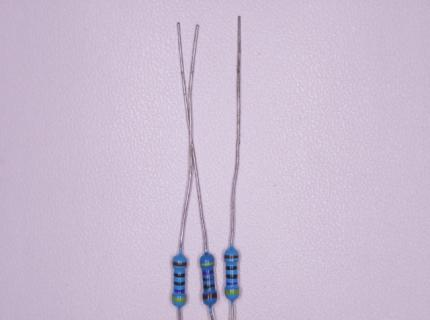Black band: (203, 284, 215, 290), (226, 273, 237, 279), (226, 266, 238, 271), (173, 281, 185, 286), (202, 277, 214, 282), (174, 273, 185, 278)
Brown band: (201, 292, 217, 300), (173, 261, 187, 266), (225, 255, 239, 259)
Violet band: (202, 269, 213, 275), (174, 289, 185, 294), (227, 282, 238, 285)
Yellow band: (172, 297, 187, 303), (226, 290, 240, 296), (201, 262, 216, 267)
